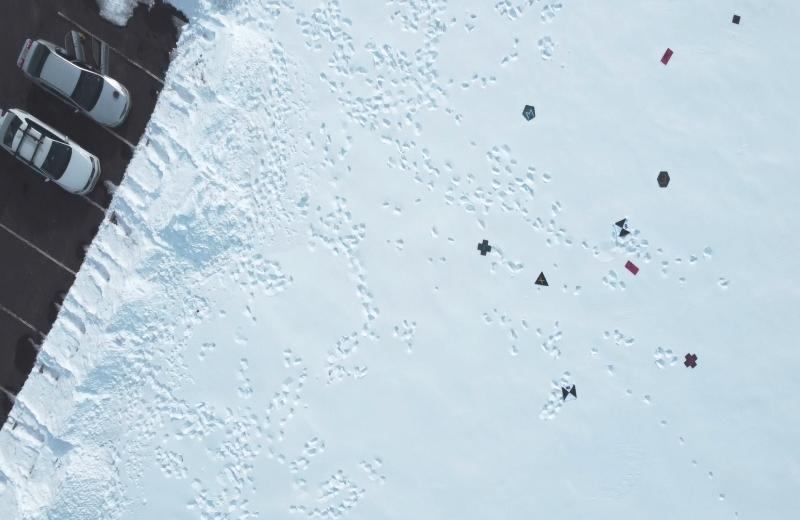Cross: (684, 351, 700, 369), (477, 240, 493, 258)
Hexagon: (655, 170, 671, 189)
Pentagon: (521, 103, 538, 123)
Rectangle: (659, 48, 675, 64), (626, 258, 639, 277)
Square: (730, 13, 743, 27)
Triangle: (534, 270, 550, 290)
